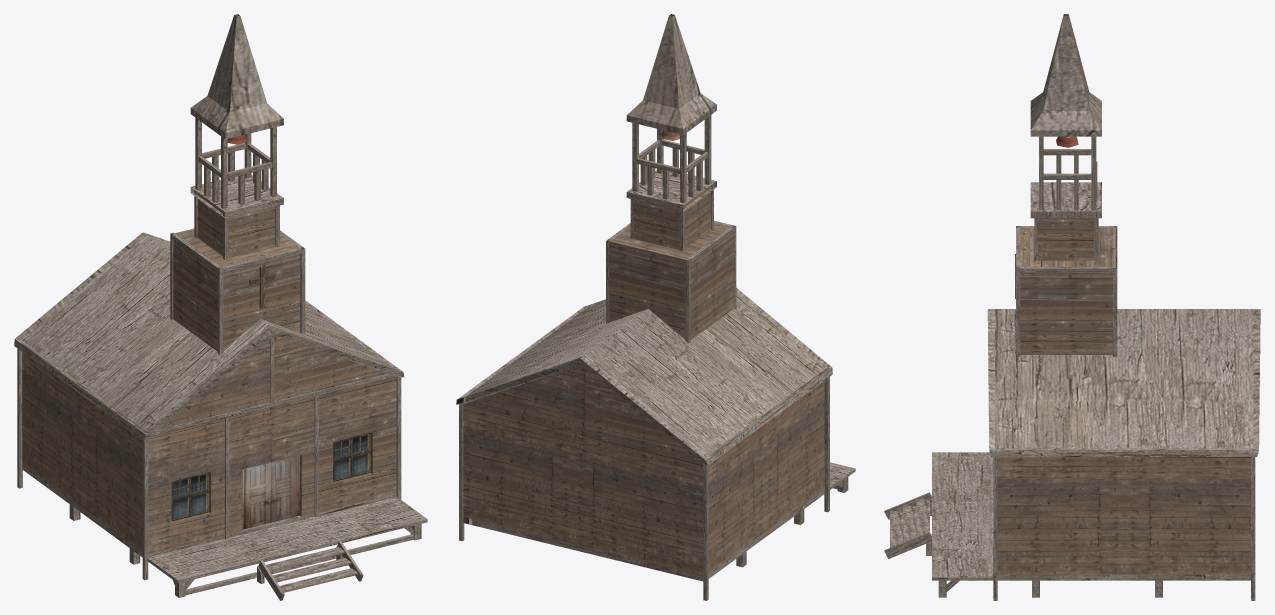
The model's file is western_church.glb.
The picture shows the model from 3 angles, left to right: view 1: azimuth 30°, elevation 25°; view 2: azimuth 150°, elevation 25°; view 3: azimuth 270°, elevation 25°; orthographic projection. The views are drawn at different scales.
Visible parts, largest first — view 1: Box397_Material #30_0, Object075_Material #30_0, Box372_Material #30_0, Object071_Material #30_0, Object072_Material #30_0, Object068_Material #30_0, Object069_Material #30_0, Object070_Material #30_0, Box427_Material #30_0, Box394_Material #30_0, Object080_Material #30_0, Object083_Material #30_0 (+9 smaller); view 2: Box397_Material #30_0, Object074_Material #30_0, Object075_Material #30_0, Object077_Material #30_0, Object076_Material #30_0, Object082_Material #30_0, Box427_Material #30_0, Object083_Material #30_0, Object084_Material #30_0, Box371_Material #30_0, Box394_Material #30_0, Object079_Material #30_0 (+3 smaller); view 3: Box397_Material #30_0, Object073_Material #30_0, Box372_Material #30_0, Object081_Material #30_0, Object078_Material #30_0, Box427_Material #30_0, Object084_Material #30_0, Box405_Material #30_0, Box371_Material #30_0, Object085_Material #30_0, Box394_Material #30_0, Box384_Material #30_0 (+3 smaller).
Part boxes in pixels (x1,y1,x2,y2): Box397_Material #30_0: [14, 232, 404, 440]; Object075_Material #30_0: [22, 371, 142, 550]; Box372_Material #30_0: [147, 497, 427, 583]; Object071_Material #30_0: [308, 401, 396, 515]; Object072_Material #30_0: [148, 336, 396, 437]; Object068_Material #30_0: [148, 440, 235, 554]; Object069_Material #30_0: [235, 422, 308, 532]; Object070_Material #30_0: [148, 377, 396, 461]; Box427_Material #30_0: [190, 14, 283, 139]; Box394_Material #30_0: [17, 337, 401, 580]; Object080_Material #30_0: [220, 248, 301, 349]; Object083_Material #30_0: [172, 234, 219, 351]; Box397_Material #30_0: [456, 288, 832, 465]; Object074_Material #30_0: [463, 427, 703, 575]; Object075_Material #30_0: [708, 399, 824, 572]; Object077_Material #30_0: [463, 364, 703, 462]; Object076_Material #30_0: [463, 404, 703, 485]; Object082_Material #30_0: [608, 241, 687, 338]; Box427_Material #30_0: [626, 14, 716, 134]; Object083_Material #30_0: [688, 231, 734, 339]; Object084_Material #30_0: [630, 183, 713, 251]; Box371_Material #30_0: [463, 488, 824, 581]; Box394_Material #30_0: [459, 377, 829, 600]; Object079_Material #30_0: [708, 381, 824, 482]; Box397_Material #30_0: [987, 309, 1260, 456]; Object073_Material #30_0: [997, 479, 1250, 574]; Box372_Material #30_0: [932, 452, 993, 580]; Object081_Material #30_0: [1018, 268, 1115, 354]; Object078_Material #30_0: [997, 457, 1250, 478]; Box427_Material #30_0: [1030, 14, 1101, 136]; Object084_Material #30_0: [1034, 218, 1098, 260]; Box405_Material #30_0: [1030, 182, 1101, 218]; Box371_Material #30_0: [997, 574, 1250, 580]; Object085_Material #30_0: [1018, 226, 1115, 267]; Box394_Material #30_0: [993, 457, 1255, 600]; Box384_Material #30_0: [890, 499, 929, 547].
Size of the model in its own units: 6.93 by 13 by 8.44.
Materials: 1 (1 with a texture image).
